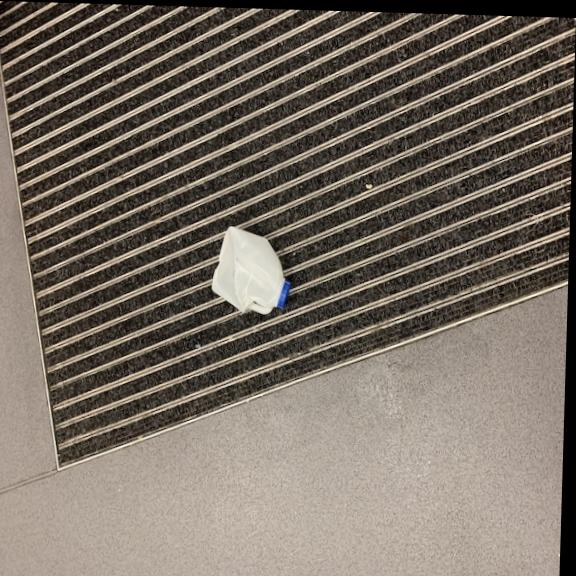Plastik: (208, 224, 295, 315)
